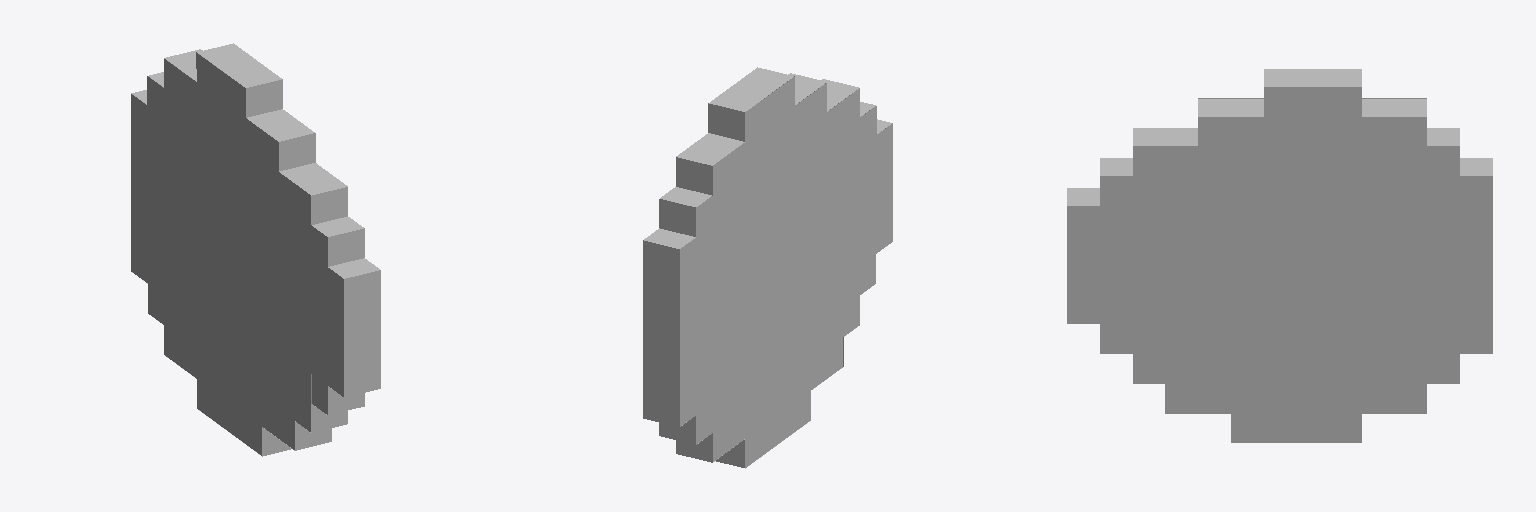
File: v4kvxywftoze.obj
The picture shows the model from 3 angles: view 1: azimuth 30°, elevation 25°; view 2: azimuth 150°, elevation 25°; view 3: azimuth 270°, elevation 25°; orthographic projection.
Parts seen in each view (by area): view 1: Cube; view 2: Cube; view 3: Cube.
Part boxes in pixels (x1,y1,x2,y2): Cube: (131, 43, 380, 456); Cube: (643, 67, 892, 468); Cube: (1067, 69, 1492, 442).
Bounding box in the file's own units: 0.2014 × 1.85 × 2.